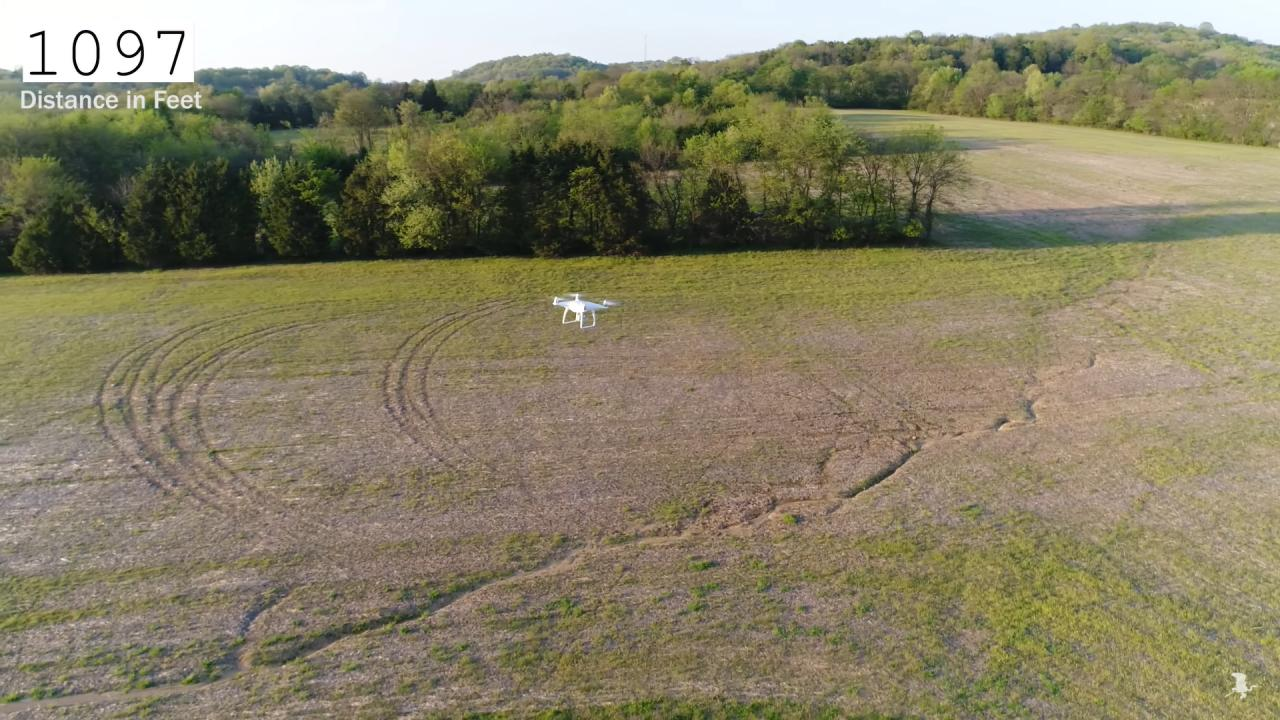Drone: (541, 282, 634, 338)
